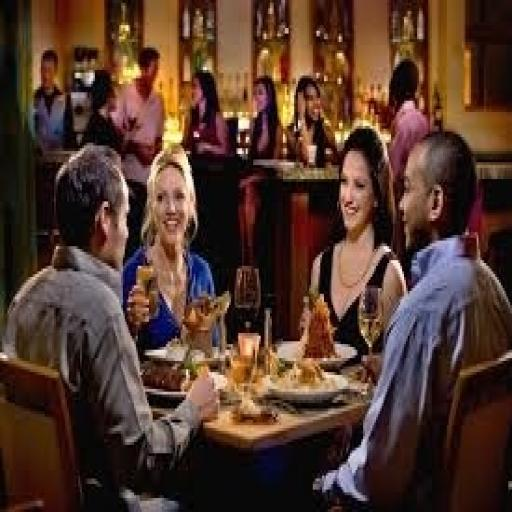eating: (2, 140, 221, 509), (311, 126, 510, 509)
